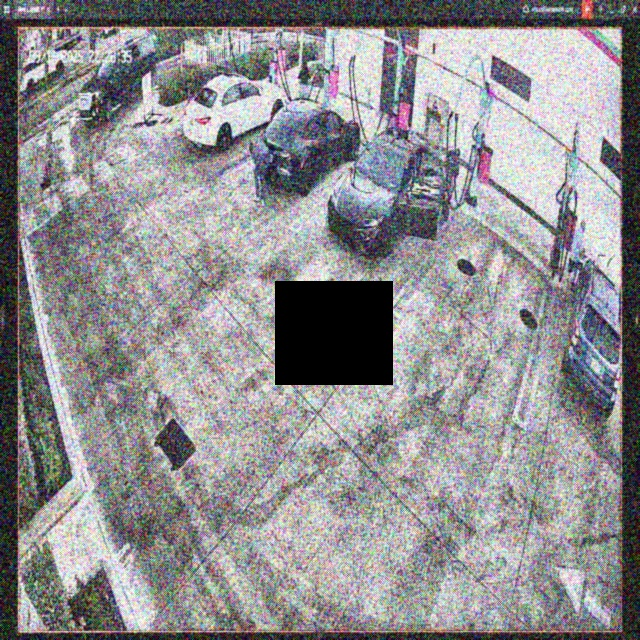Car: (327, 131, 442, 258), (255, 101, 360, 191), (185, 72, 284, 164)
